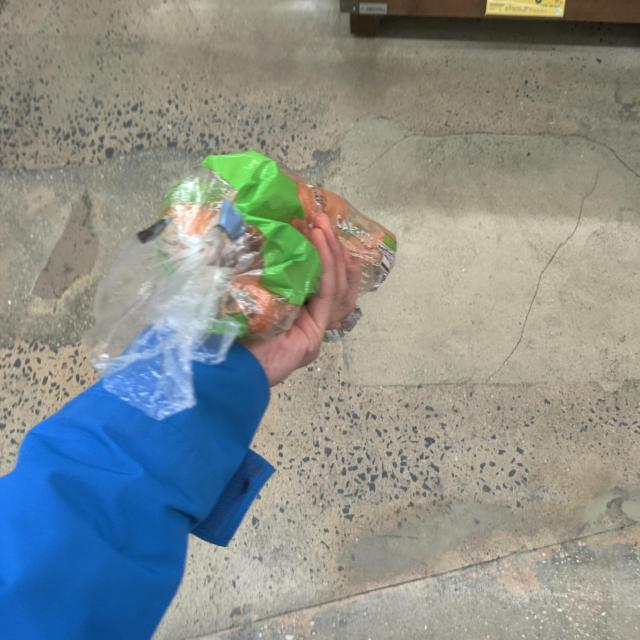Carrots: (122, 141, 416, 368)
